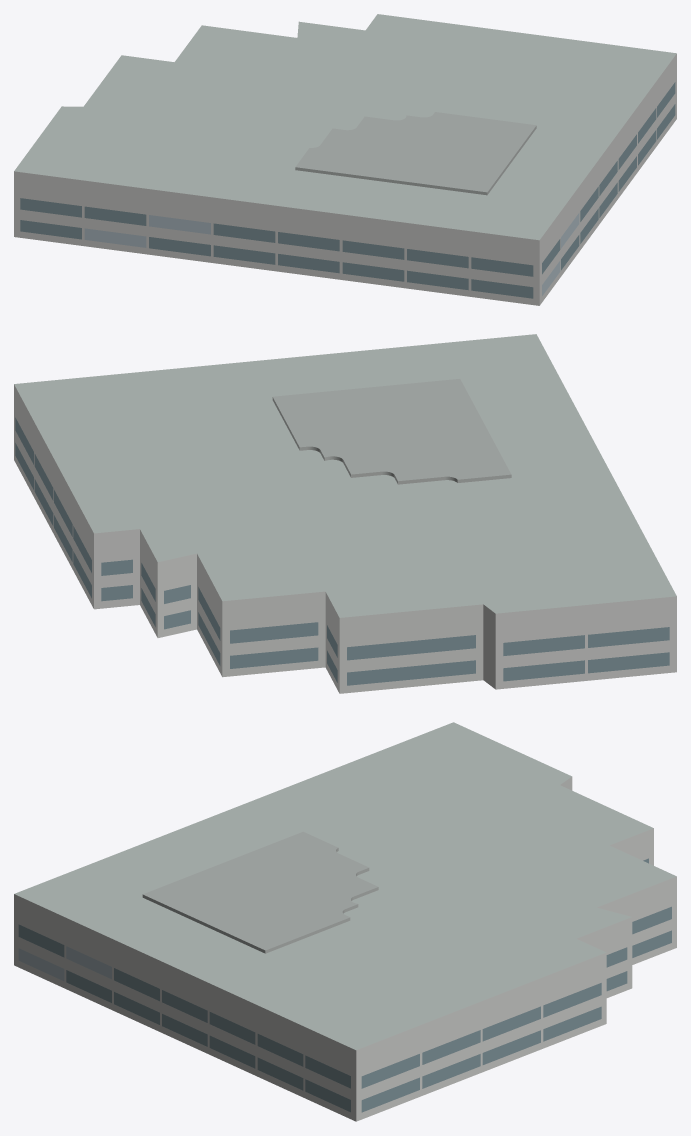
The model's file is landmark-af0d41b0-92cd-4456-a746-0cae2be936d3.glb.
3 views of the same model, one above another, from view 1: azimuth 30°, elevation 25°; view 2: azimuth 150°, elevation 25°; view 3: azimuth 270°, elevation 25° (orthographic). The views are drawn at different scales.
Visible parts, largest first — view 1: landmark-af0d41b0-92cd-4456-a746-0cae2be936d3; view 2: landmark-af0d41b0-92cd-4456-a746-0cae2be936d3; view 3: landmark-af0d41b0-92cd-4456-a746-0cae2be936d3.
Boxes of the visible parts, x1=… form: landmark-af0d41b0-92cd-4456-a746-0cae2be936d3: x1=14, y1=14, x2=676, y2=305; landmark-af0d41b0-92cd-4456-a746-0cae2be936d3: x1=14, y1=334, x2=676, y2=693; landmark-af0d41b0-92cd-4456-a746-0cae2be936d3: x1=14, y1=722, x2=676, y2=1121.
Bounding box in the file's own units: 90.15 × 9.56 × 76.98.
